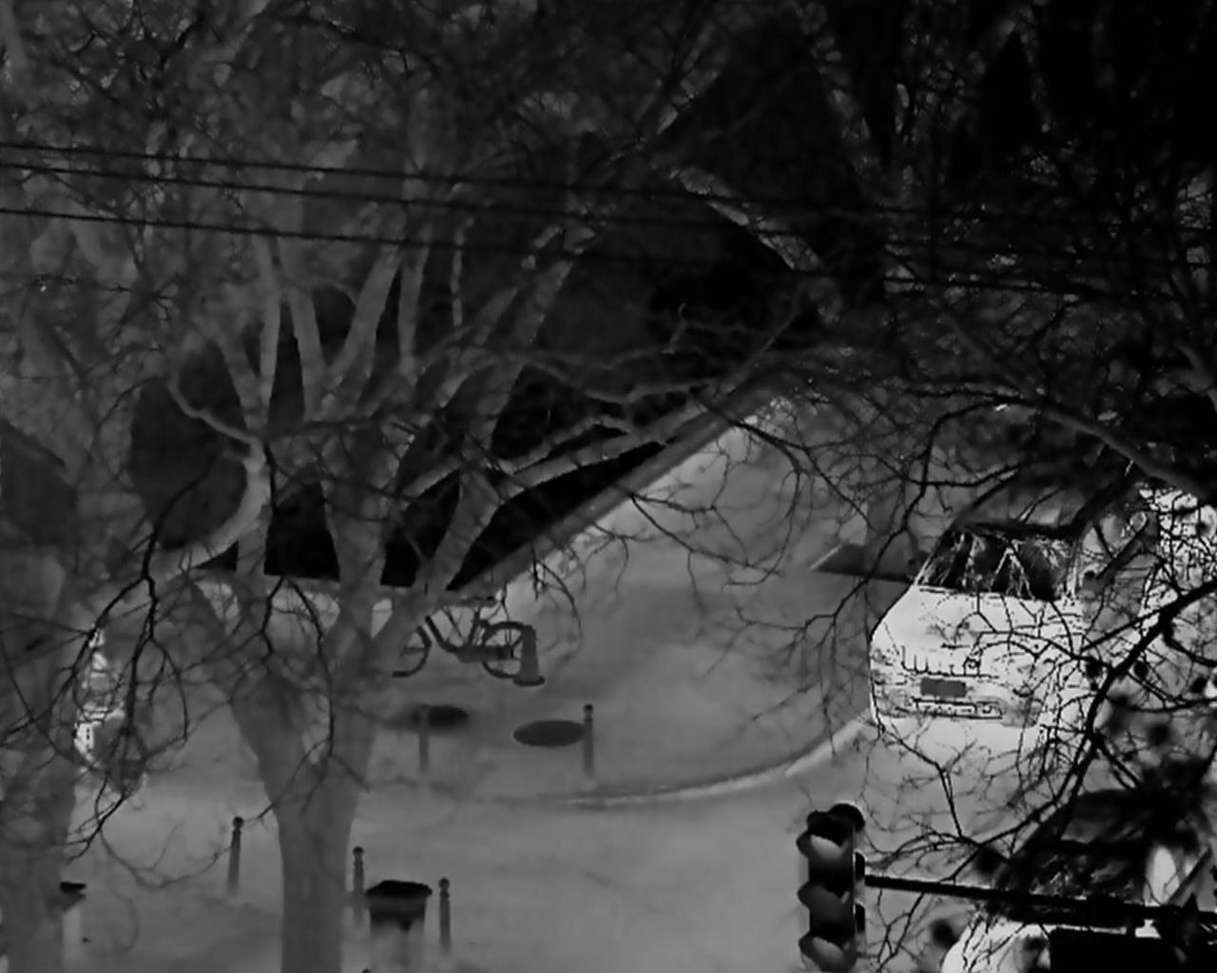person: (78, 626, 127, 762)
